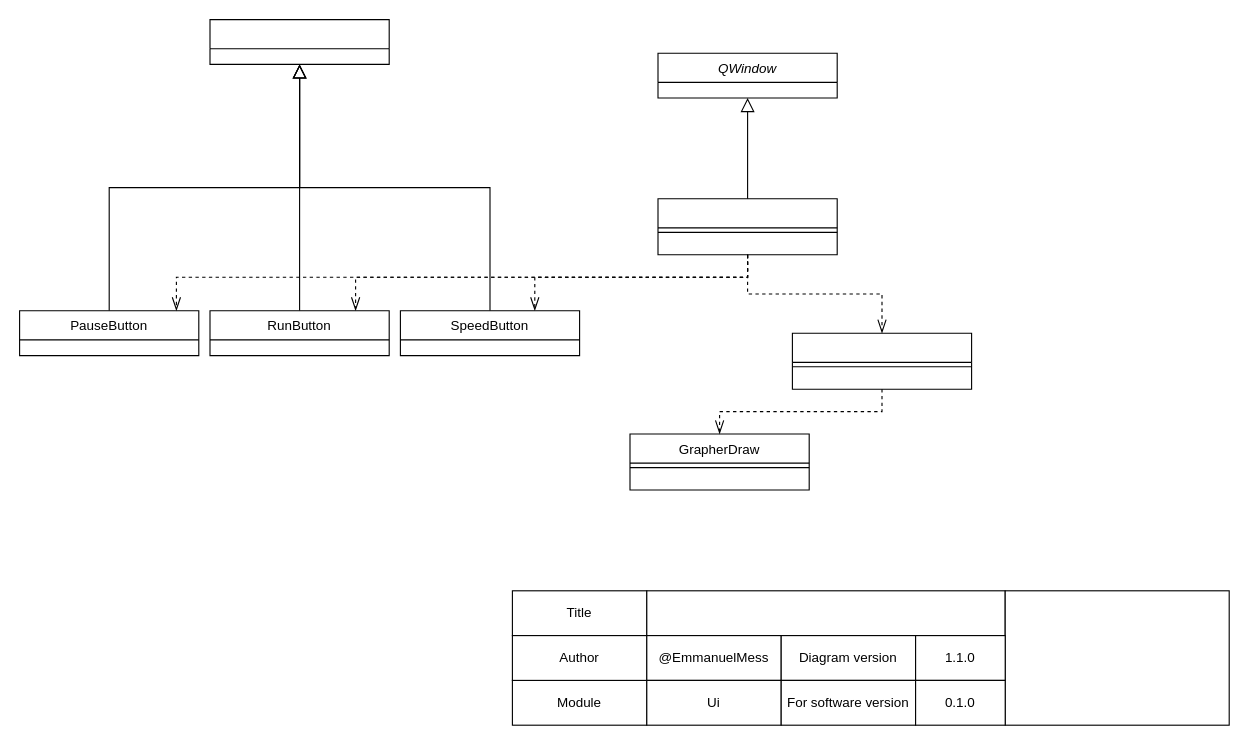
The diagram is 1249 pixels wide and 745 high, and some of its shapes have lost their labels. The shapes that lost their labels are listed below. From the top down, each one's centre as x and y in pixels, then its label:
At (x=299, y=41): "QButton".
At (x=747, y=226): "MainWindow".
At (x=881, y=360): "GrapherWidget".
At (x=825, y=613): "Ui class diagram".
At (x=1116, y=657): "Constraint Based Simulator".
